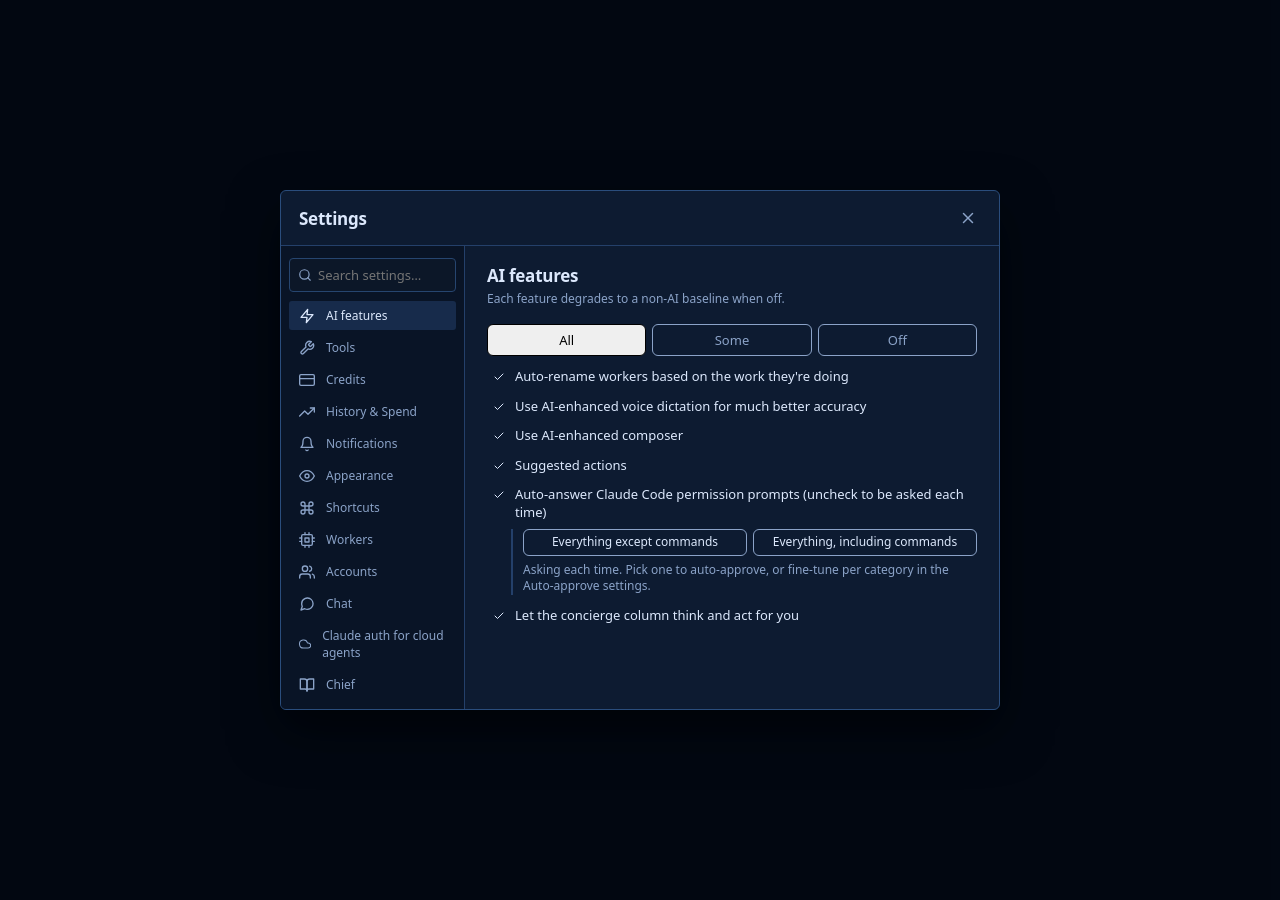
SettingsDialog — the Chat category › is its own rail entry that opens the Chat pane
This screenshot has width=1280, height=900.
Click the button "Chat" at (372, 604), box [289, 589, 456, 618]
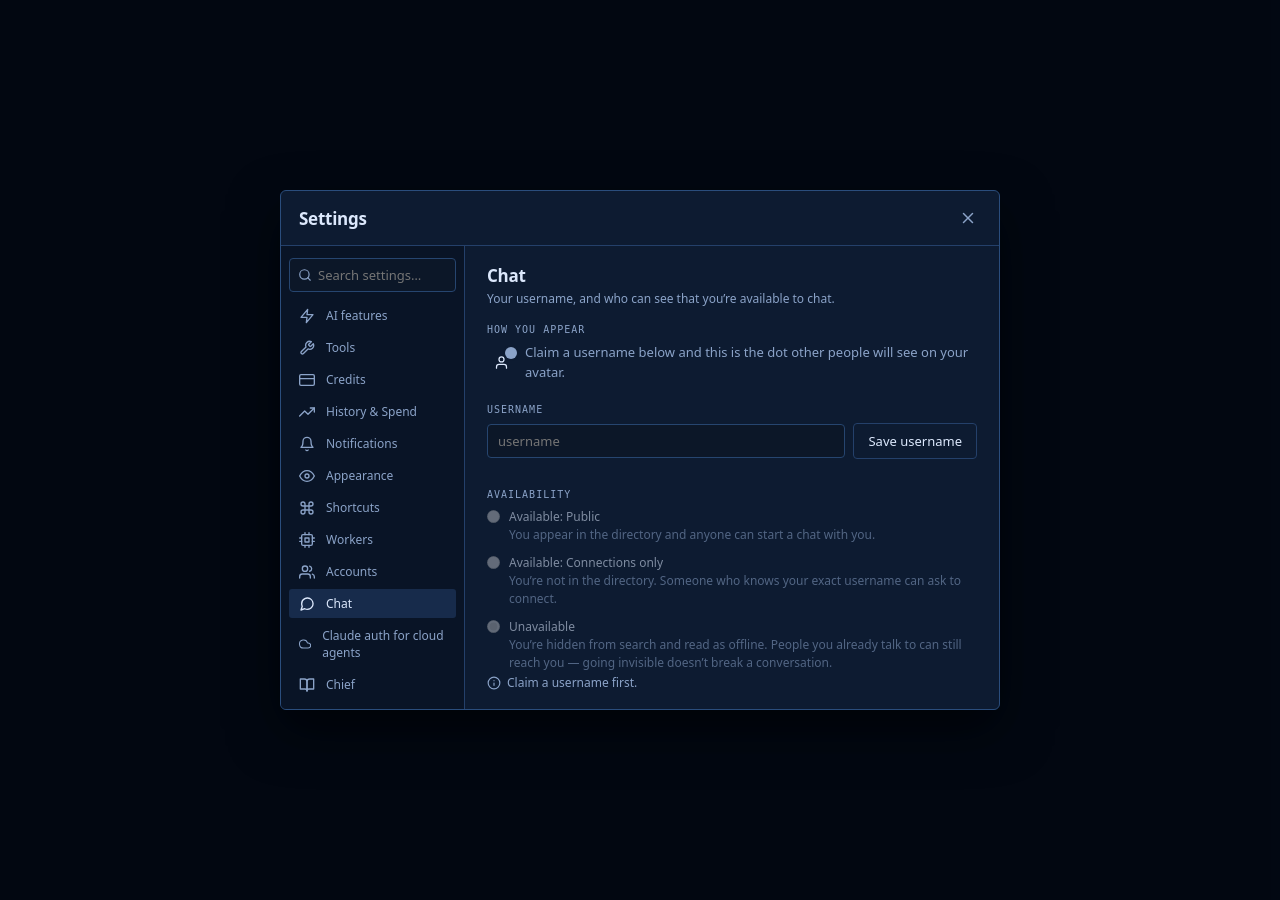
Expected: the heading "Chat" is shown, [487, 264, 526, 287]
Expected: the element named "Availability" is shown, [487, 508, 977, 672]
Expected: the field with test id "chat-username-input" is shown, [487, 424, 846, 458]
